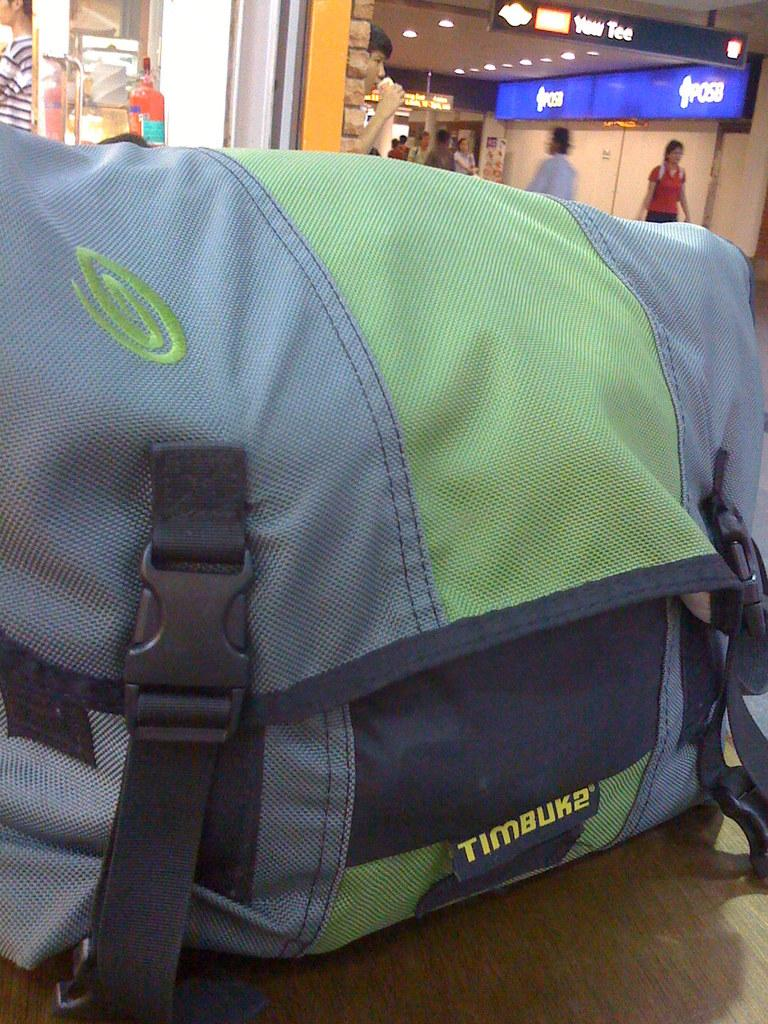Luggage-and-bags: (0, 116, 767, 1023), (653, 160, 686, 184), (414, 147, 435, 157)
